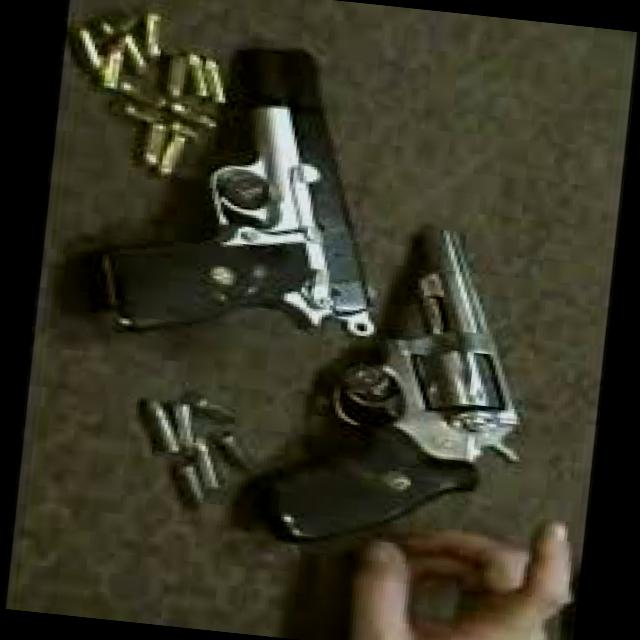handgun: (254, 202, 552, 566), (103, 28, 414, 366)
